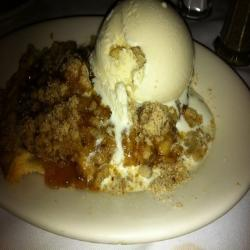apple_pie: (7, 41, 199, 188)
icecream: (91, 4, 207, 125)
